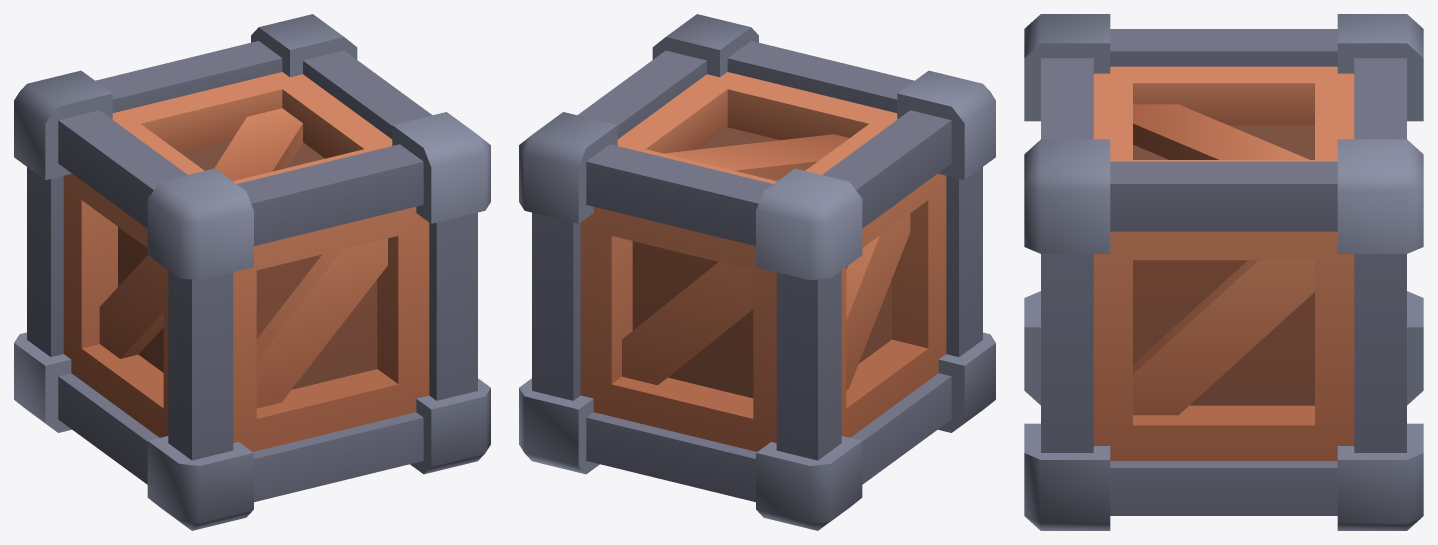
Rendered from crate-strong.glb.
The picture shows the model from 3 angles, left to right: view 1: azimuth 30°, elevation 25°; view 2: azimuth 150°, elevation 25°; view 3: azimuth 270°, elevation 25°; orthographic projection. The views are drawn at different scales.
Parts seen in each view (by area): view 1: crate-strong; view 2: crate-strong; view 3: crate-strong.
Part boxes in pixels (x1=…): crate-strong: x1=14, y1=14, x2=490, y2=530; crate-strong: x1=519, y1=14, x2=995, y2=530; crate-strong: x1=1024, y1=14, x2=1423, y2=530.
Bounding box in the file's own units: 0.6 × 0.6 × 0.6.
1 material, 1 textured.
